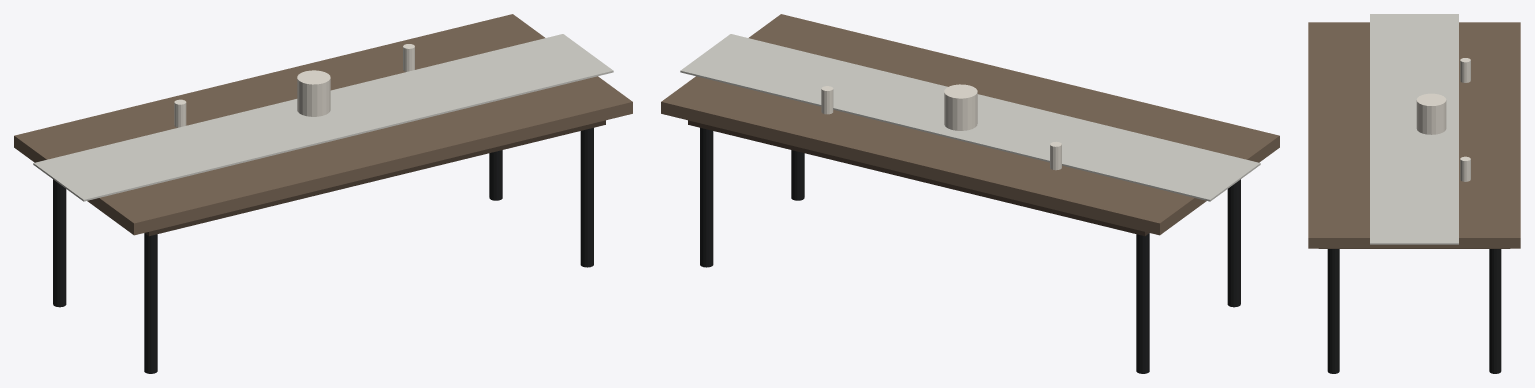
The picture shows the model from 3 angles, left to right: view 1: azimuth 30°, elevation 25°; view 2: azimuth 150°, elevation 25°; view 3: azimuth 270°, elevation 25°; orthographic projection. The views are drawn at different scales.
Visible parts, largest first — view 1: dining-table; view 2: dining-table; view 3: dining-table.
Boxes of the visible parts, x1,y1,x2,y2 form: dining-table: (14, 14, 632, 373); dining-table: (661, 14, 1279, 373); dining-table: (1308, 14, 1520, 373).
Size of the model in its own units: 2.55 by 0.92 by 1.
